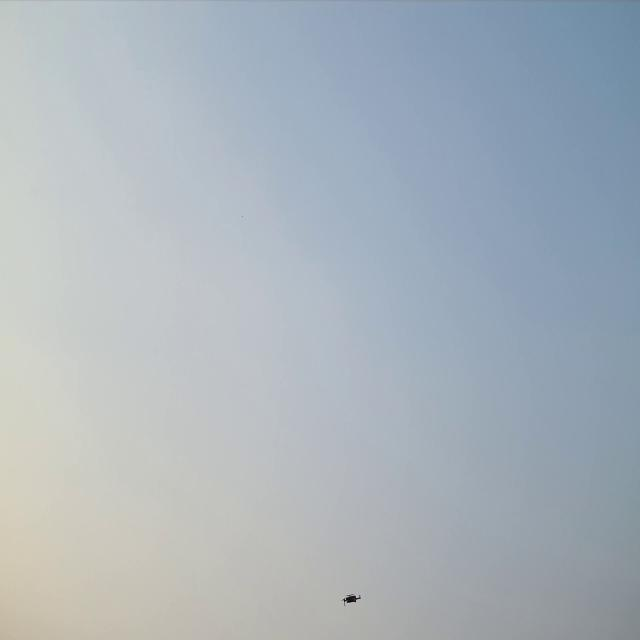UAV: (340, 590, 362, 609)
